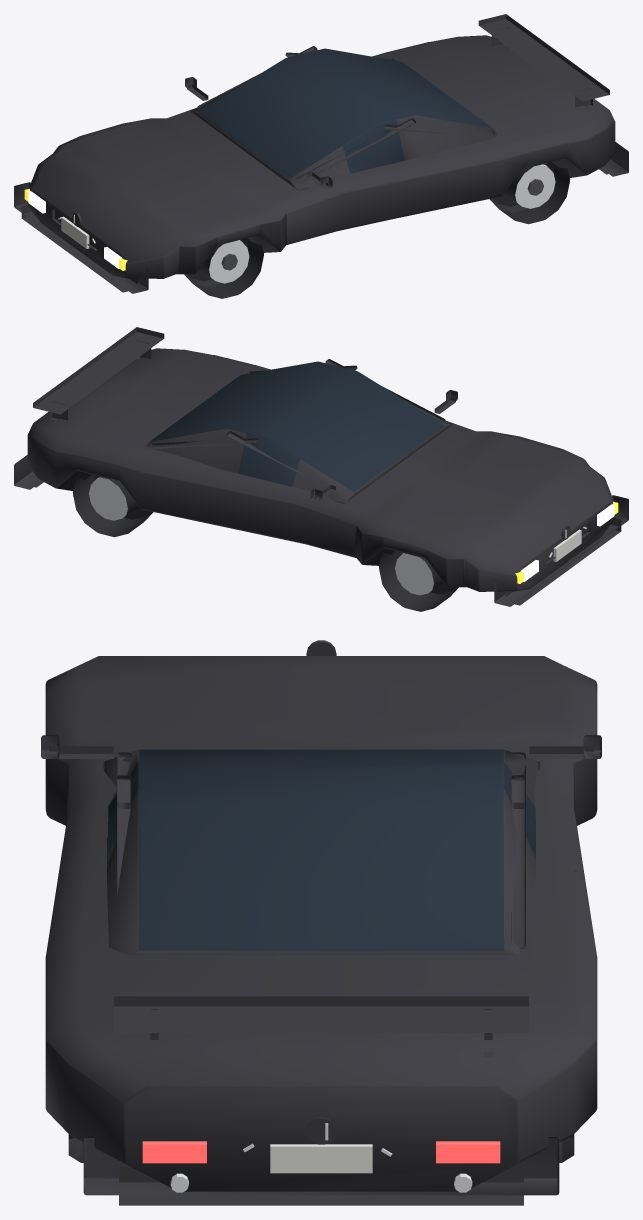
File: car_blacklist.glb
The picture shows the model from 3 angles, top to bottom: view 1: azimuth 30°, elevation 25°; view 2: azimuth 150°, elevation 25°; view 3: azimuth 270°, elevation 25°; orthographic projection. The views are drawn at different scales.
Bounding box in the file's own units: 1.9 × 0.4469 × 0.9259.
